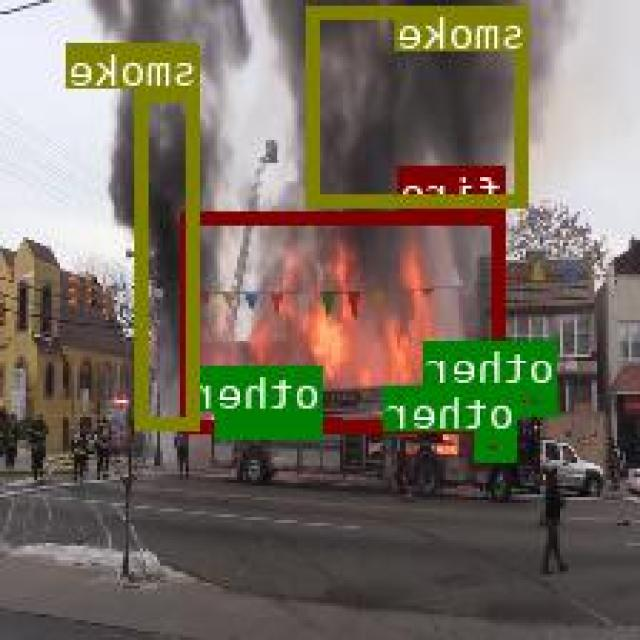fire: (183, 209, 506, 432)
other: (219, 411, 325, 435), (511, 383, 557, 412), (480, 431, 520, 458)
smoke: (309, 4, 531, 204), (140, 88, 202, 428)
